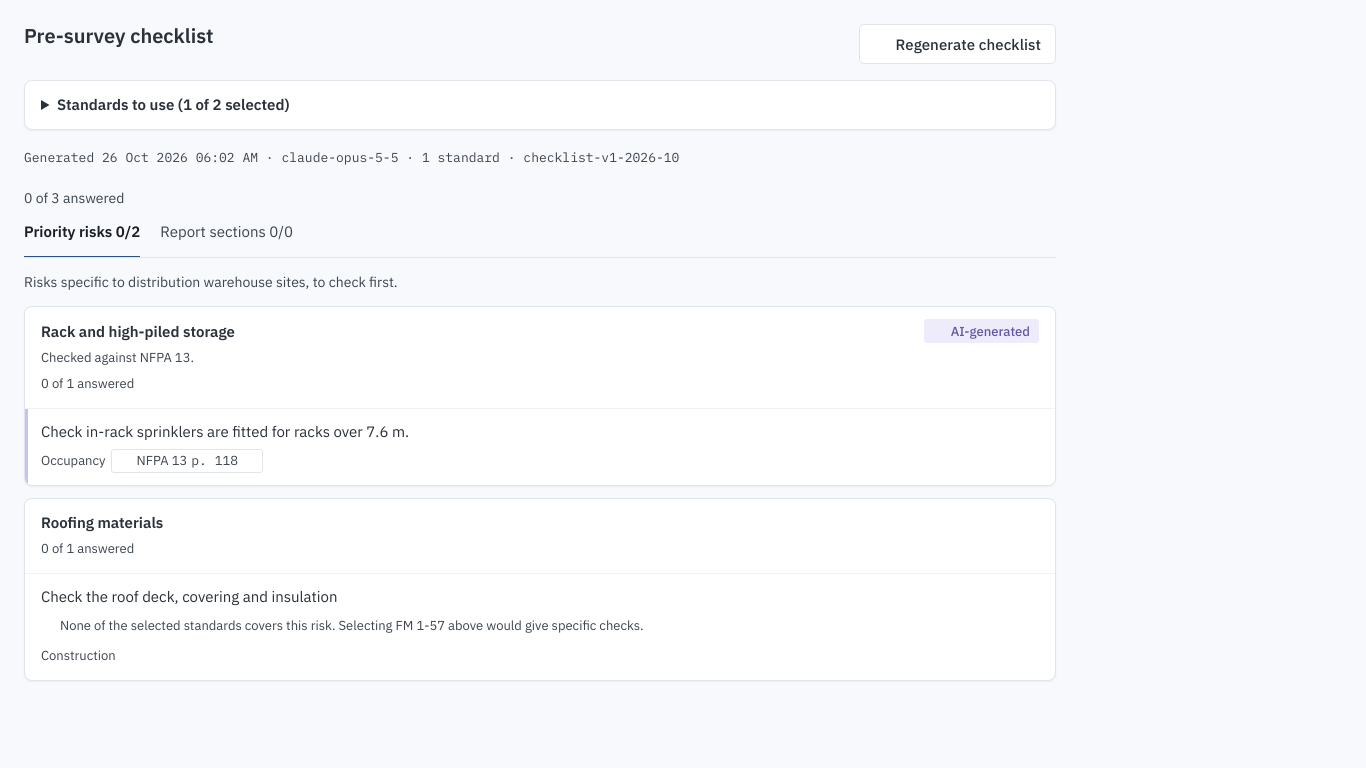
shows why generating failed and keeps the last checklist
Click the button "Regenerate checklist" at coordinates (957, 44), box left=859, top=24, right=1056, bottom=64
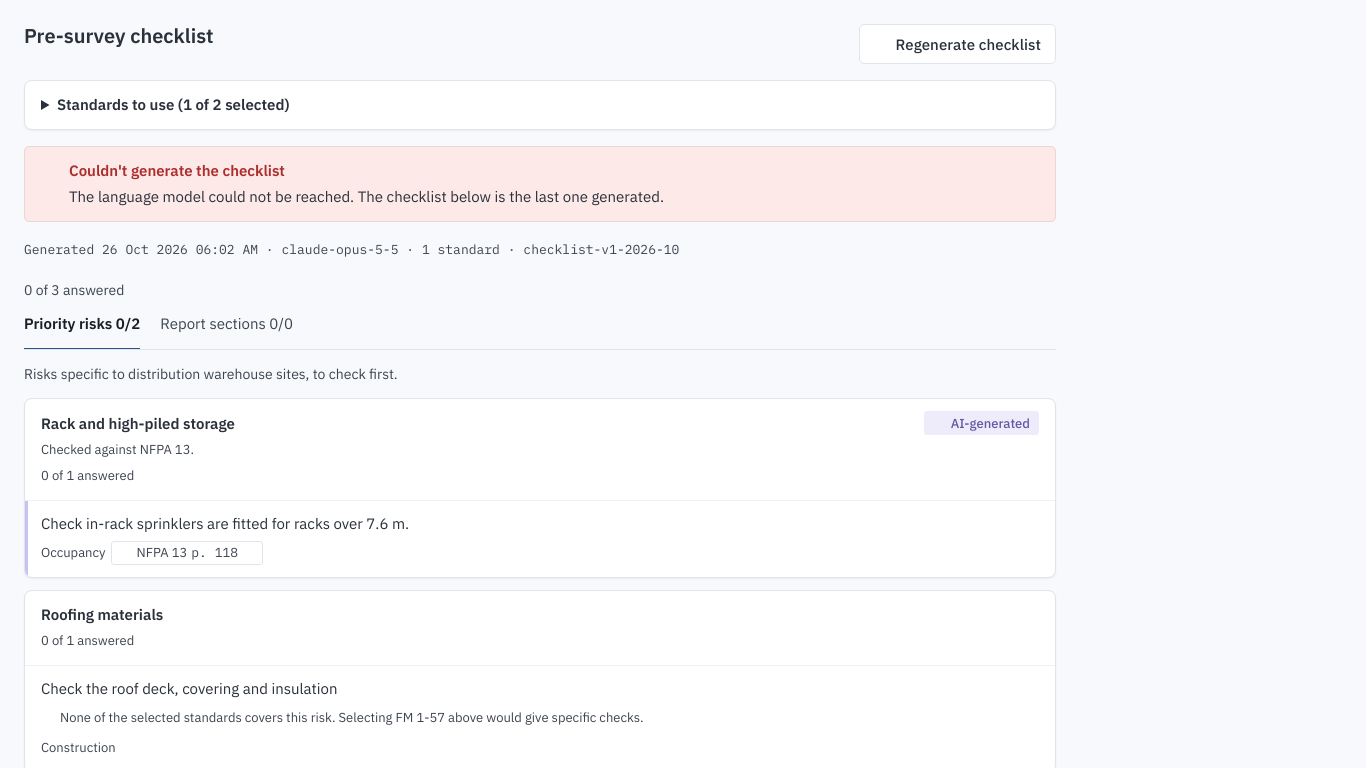
Expected: the element "Rack and high-piled storage" is shown, left=24, top=398, right=1056, bottom=578
Expected: the text "The language model could not be reached." is shown, left=69, top=187, right=354, bottom=206
Expected: the text "The checklist below is the last one generated" is shown, left=354, top=187, right=664, bottom=206
